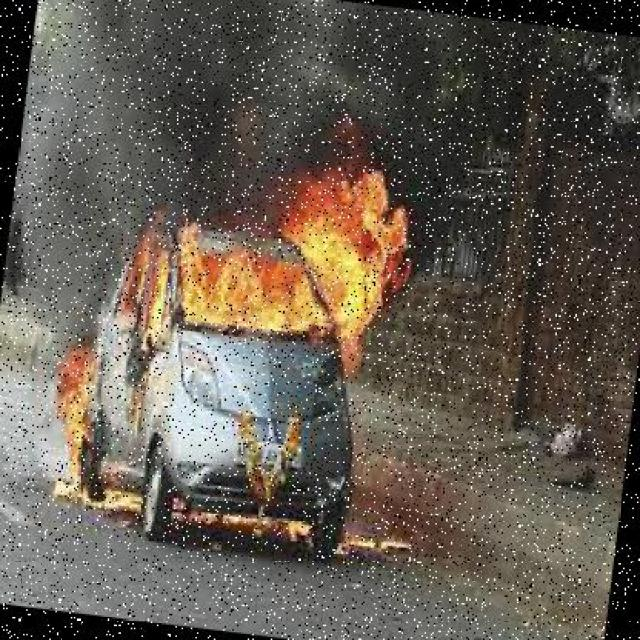fire: (43, 146, 443, 592)
